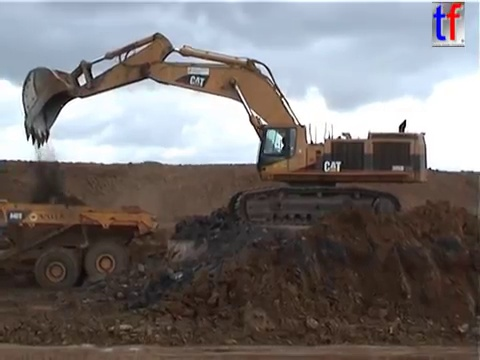excavator: (19, 30, 430, 228)
truck: (1, 197, 161, 293)
